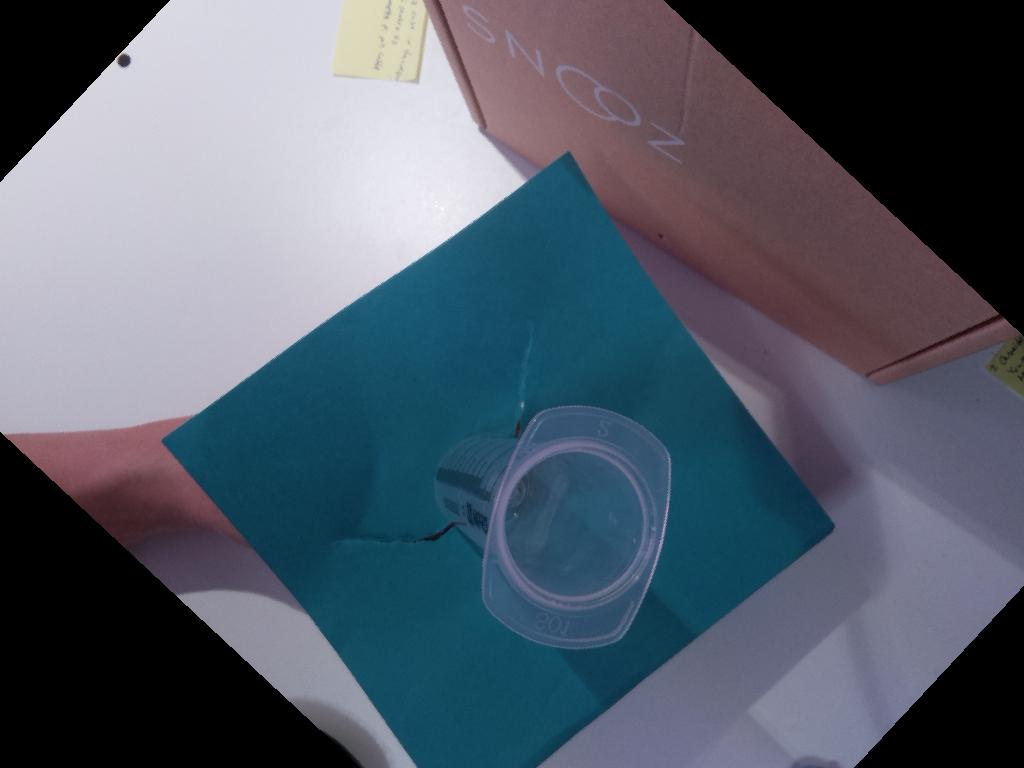clean: (479, 403, 673, 647)
